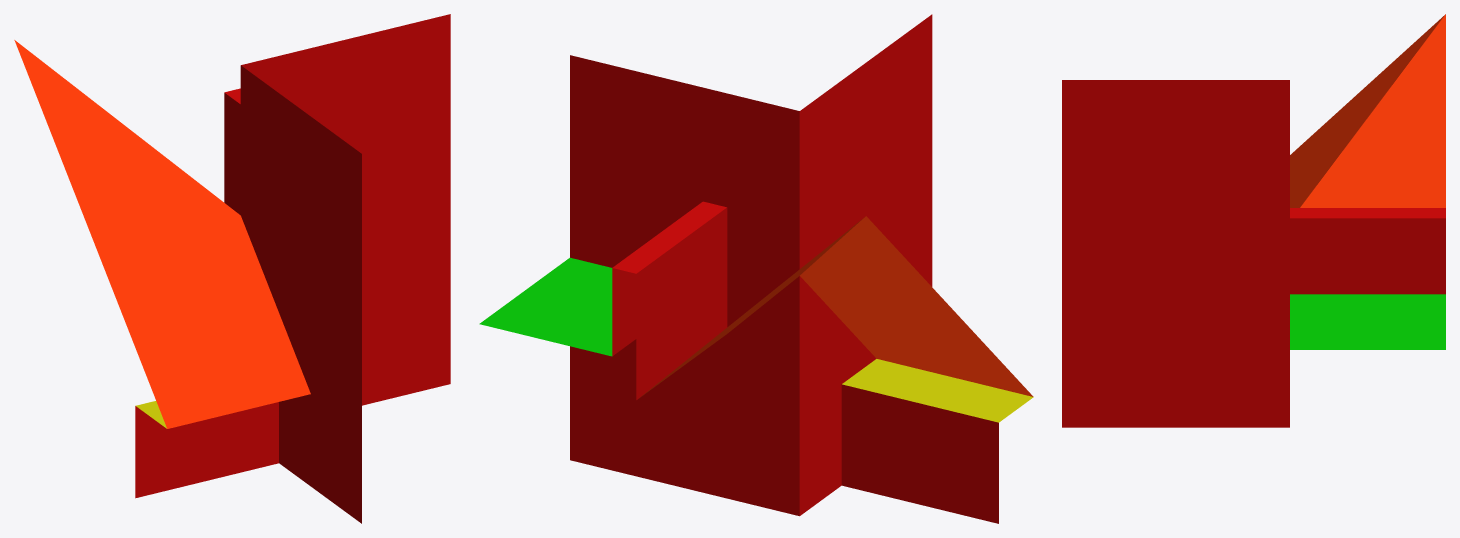
The picture shows the model from 3 angles, left to right: view 1: azimuth 30°, elevation 25°; view 2: azimuth 150°, elevation 25°; view 3: azimuth 270°, elevation 25°; orthographic projection. The views are drawn at different scales.
Parts seen in each view (by area): view 1: None_W_A_E_A_S_E_E_E_None; view 2: None_W_A_E_A_S_E_E_E_None; view 3: None_W_A_E_A_S_E_E_E_None.
Part boxes in pixels (x1,y1,x2,y2): None_W_A_E_A_S_E_E_E_None: (14,14,450,523); None_W_A_E_A_S_E_E_E_None: (479,14,1033,523); None_W_A_E_A_S_E_E_E_None: (1062,14,1445,427).
Size of the model in its own units: 100 by 100 by 100.
